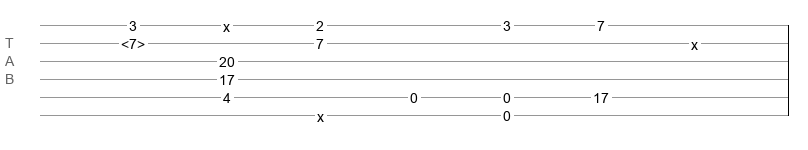0: (410, 90, 418, 100), (503, 90, 511, 100), (503, 108, 511, 118)
17: (219, 72, 235, 82), (593, 90, 609, 100)
2: (316, 18, 324, 28)
20: (219, 54, 235, 64)
3: (129, 18, 137, 28), (503, 18, 511, 28)
4: (223, 90, 231, 100)
7: (316, 36, 324, 46), (597, 18, 605, 28)
harmonic: (121, 36, 145, 46)
x: (223, 19, 230, 27), (317, 109, 324, 117), (691, 37, 698, 45)
